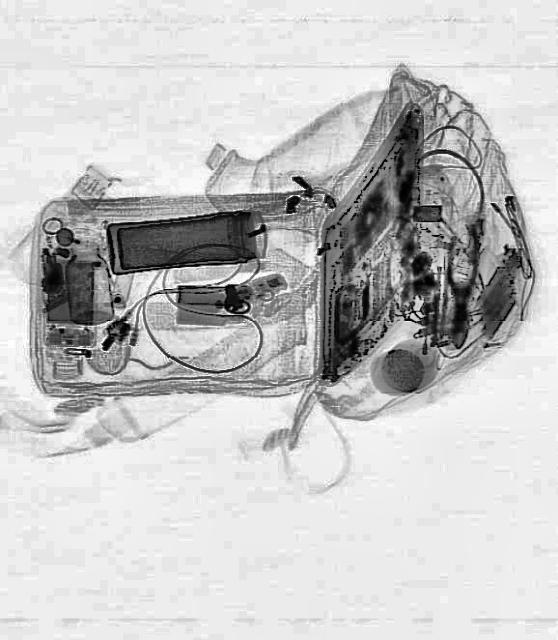Pliers: (440, 225, 482, 348)
